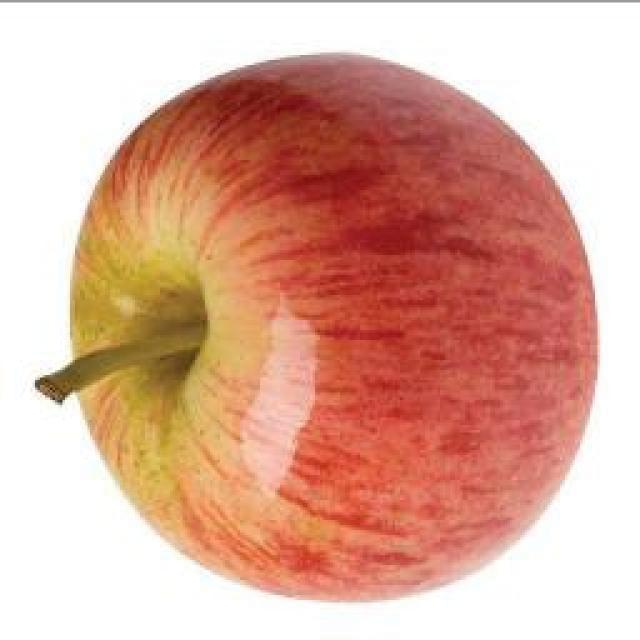Apple: (40, 55, 596, 599)
